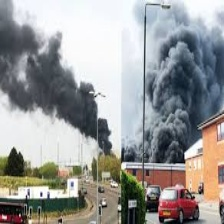smoke: (5, 17, 117, 153), (131, 18, 211, 160)
